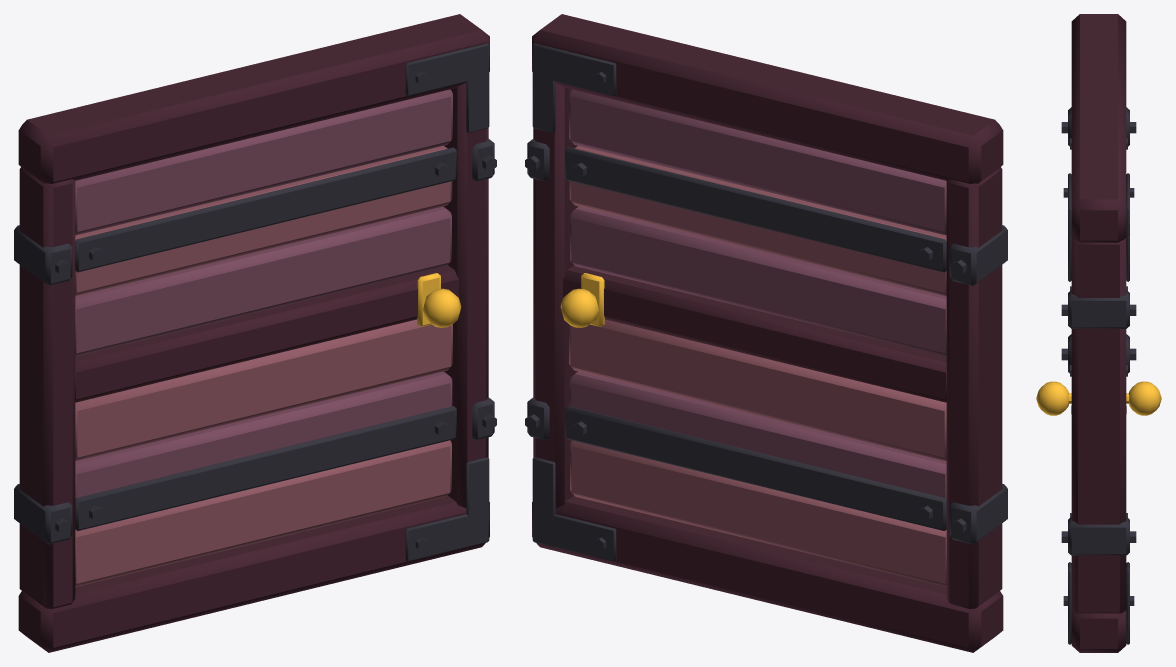
The model's file is door_wing.glb.
The picture shows the model from 3 angles, left to right: view 1: azimuth 30°, elevation 25°; view 2: azimuth 150°, elevation 25°; view 3: azimuth 270°, elevation 25°; orthographic projection. The views are drawn at different scales.
Visible parts, largest first — view 1: body; view 2: body; view 3: body.
Part boxes in pixels (x1,y1,x2,y2): body: [14, 14, 496, 652]; body: [525, 14, 1007, 652]; body: [1036, 14, 1161, 652].
Bounding box in the file's own units: 1 × 1.1 × 0.276.
